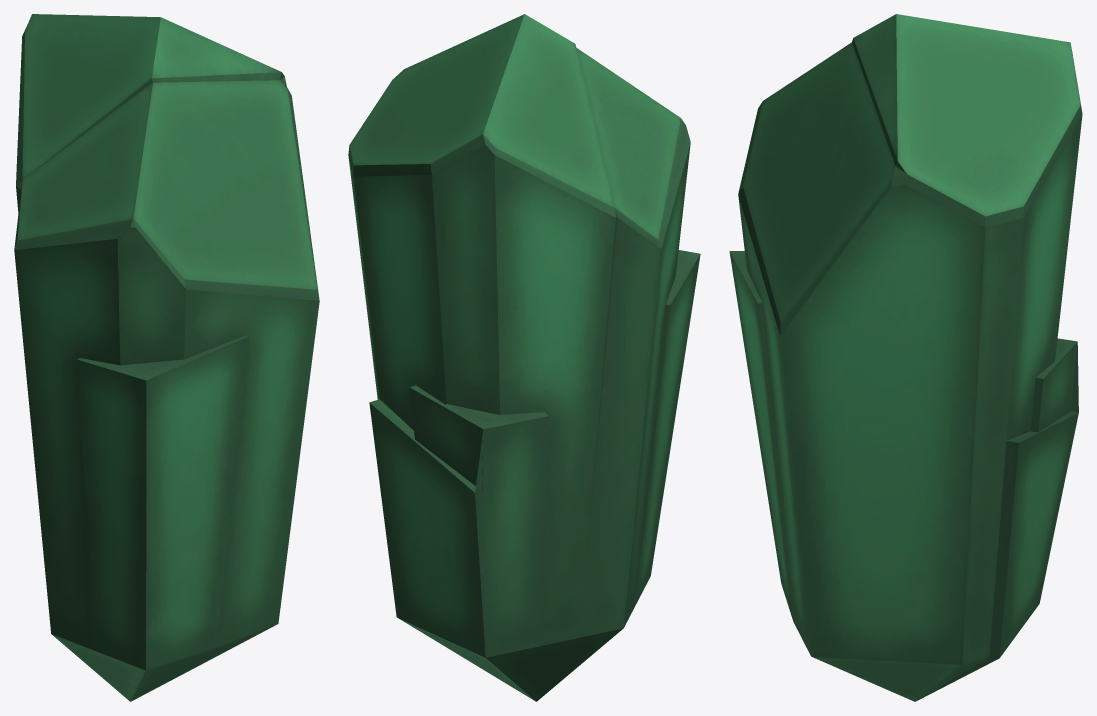
The model's file is spooky_gravel_crystal01.glb.
3 views of the same model, side by side, from view 1: azimuth 30°, elevation 25°; view 2: azimuth 150°, elevation 25°; view 3: azimuth 270°, elevation 25° (orthographic). The views are drawn at different scales.
Visible parts, largest first — view 1: spooky_gravel_crystal01; view 2: spooky_gravel_crystal01; view 3: spooky_gravel_crystal01.
Boxes of the visible parts, x1,y1,x2,y2 form: spooky_gravel_crystal01: (14,14,319,701); spooky_gravel_crystal01: (348,14,700,701); spooky_gravel_crystal01: (729,14,1082,701).
Size of the model in its own units: 0.844 by 1.99 by 0.9126.
1 material, 1 textured.
